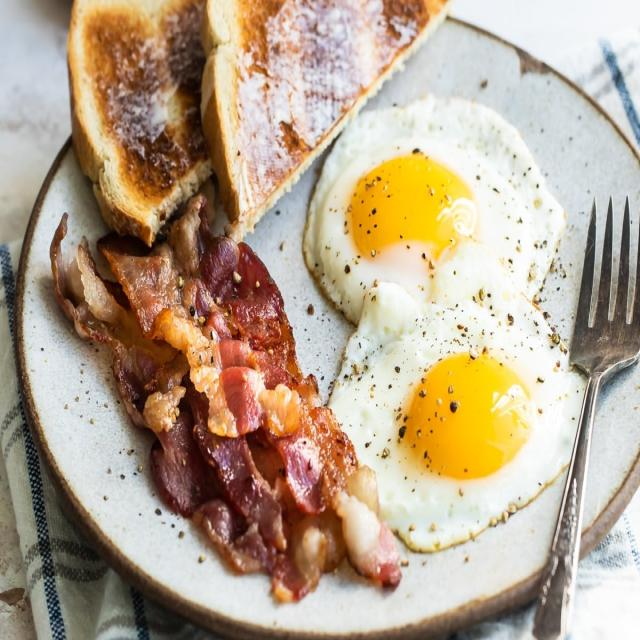carne de cerdo: (53, 225, 353, 601)
huevos: (342, 297, 588, 535), (298, 105, 566, 321)
